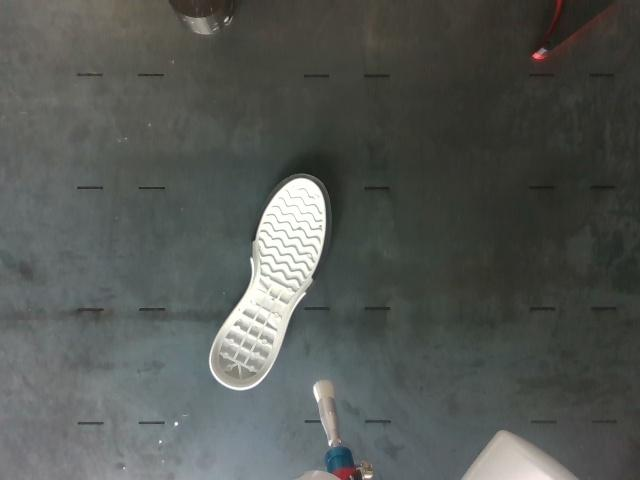shoes: (210, 176, 330, 388)
